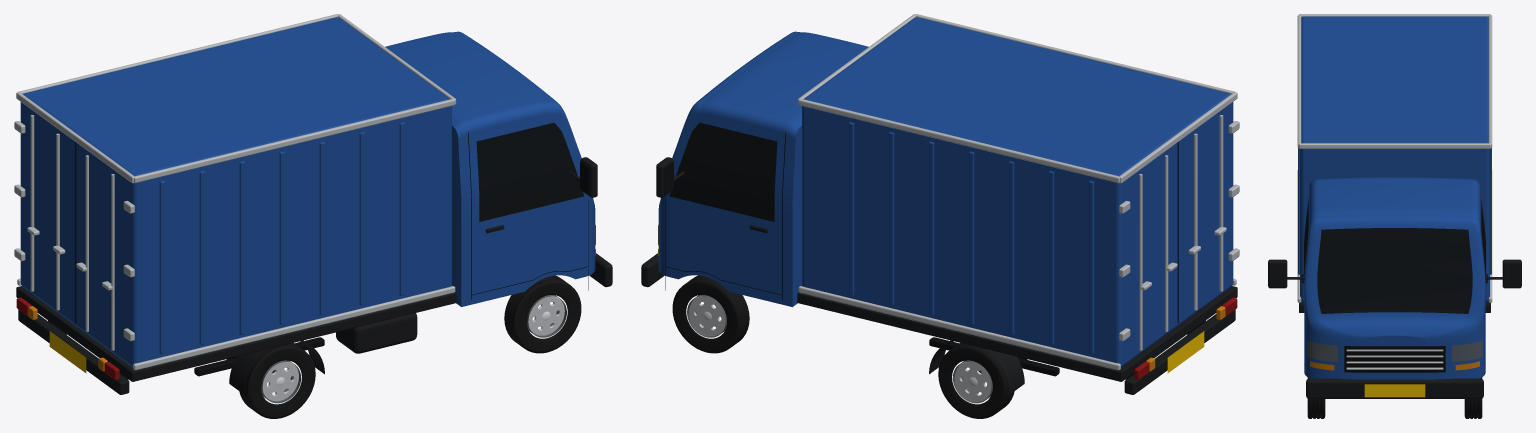
The model's file is delivery-van.glb.
The picture shows the model from 3 angles, left to right: view 1: azimuth 30°, elevation 25°; view 2: azimuth 150°, elevation 25°; view 3: azimuth 270°, elevation 25°; orthographic projection. The views are drawn at different scales.
Visible parts, largest first — view 1: paint, alu, trim, glass, wheel_fr_tyre, wheel_rr_tyre, wheel_rr_rim, wheel_fr_rim, seam, under, plate_rear; view 2: paint, alu, trim, glass, wheel_fl_tyre, wheel_rl_tyre, wheel_rl_rim, wheel_fl_rim, seam, under, plate_rear; view 3: paint, glass, trim, alu, trim_gloss, chrome, headlight, plate_front, wheel_fl_tyre, wheel_fr_tyre, indicator.
Part boxes in pixels (box(x1,y1,x2,y2)): paint: box(20, 17, 595, 367); alu: box(14, 14, 456, 370); trim: box(16, 157, 612, 394); glass: box(476, 122, 589, 221); wheel_fr_tyre: box(504, 275, 581, 353); wheel_rr_tyre: box(239, 343, 315, 418); wheel_rr_rim: box(262, 362, 298, 401); wheel_fr_rim: box(528, 296, 564, 335); seam: box(75, 132, 588, 323); under: box(48, 320, 324, 379); plate_rear: box(49, 331, 86, 373); paint: box(658, 17, 1233, 367); alu: box(797, 14, 1239, 370); trim: box(641, 157, 1237, 394); glass: box(664, 122, 777, 221); wheel_fl_tyre: box(672, 275, 749, 353); wheel_rl_tyre: box(938, 343, 1014, 418); wheel_rl_rim: box(955, 362, 991, 401); wheel_fl_rim: box(689, 296, 725, 335); seam: box(665, 132, 1178, 323); under: box(929, 320, 1205, 379); plate_rear: box(1167, 331, 1204, 373); paint: box(1298, 16, 1491, 379); glass: box(1304, 200, 1485, 313); trim: box(1268, 259, 1521, 398); alu: box(1297, 14, 1492, 302); trim_gloss: box(1344, 346, 1445, 372); chrome: box(1346, 349, 1443, 369); headlight: box(1307, 340, 1482, 361); plate_front: box(1364, 384, 1425, 397); wheel_fl_tyre: box(1464, 377, 1482, 418); wheel_fr_tyre: box(1307, 377, 1325, 418); indicator: box(1310, 361, 1479, 370).
Size of the model in its own units: 3.9 by 2.13 by 2.1.
